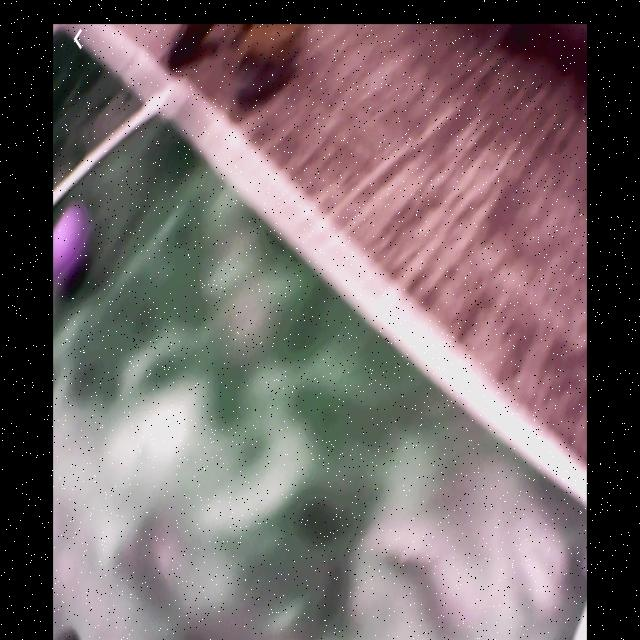ball: (55, 209, 89, 275)
